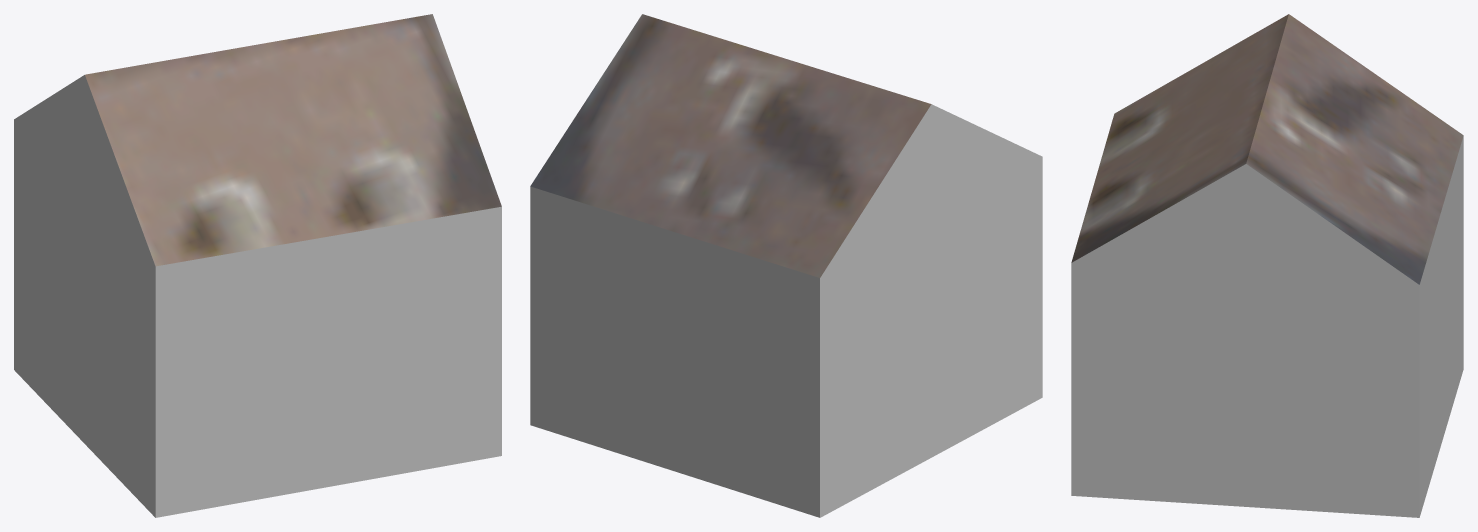
File: DEBW_0010007TxcO.gltf
The picture shows the model from 3 angles, left to right: view 1: azimuth 30°, elevation 25°; view 2: azimuth 150°, elevation 25°; view 3: azimuth 270°, elevation 25°; orthographic projection. The views are drawn at different scales.
Visible parts, largest first — view 1: Z_UP; view 2: Z_UP; view 3: Z_UP.
Boxes of the visible parts, box(x1,y1,x2,y2) form: Z_UP: box(14, 14, 501, 517); Z_UP: box(530, 14, 1042, 517); Z_UP: box(1071, 14, 1463, 517).
Bounding box in the file's own units: 12.01 × 11.39 × 11.75.
Materials: 2 (1 with a texture image).
